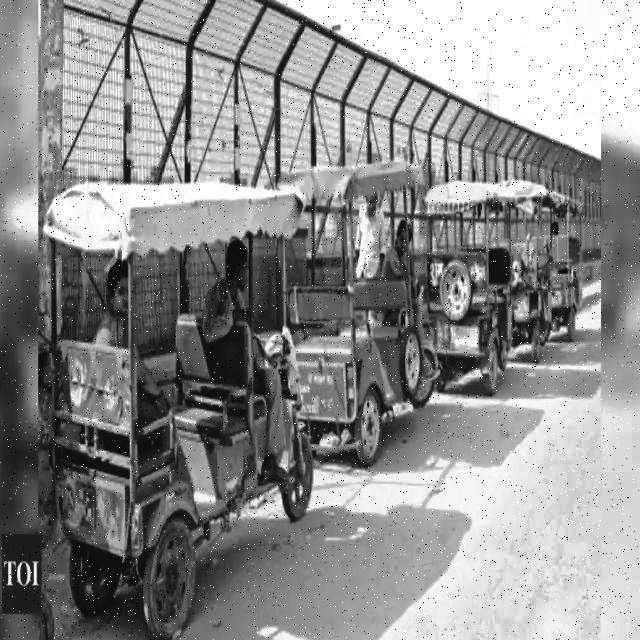Toto: (49, 176, 321, 639), (307, 162, 425, 466), (422, 182, 514, 394)
